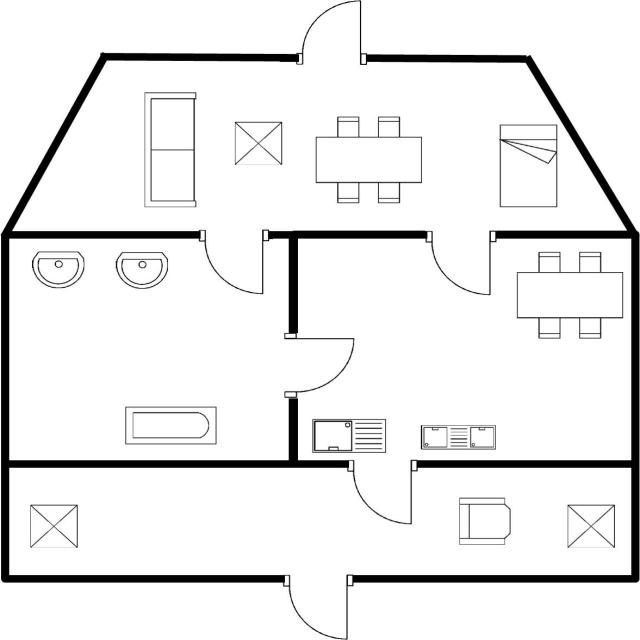armchair: (453, 492, 516, 552)
bed: (494, 118, 562, 214)
coffee_table: (227, 114, 289, 172), (562, 498, 622, 554), (23, 499, 83, 554)
dining_table: (510, 246, 628, 344), (309, 112, 427, 206)
large_sofa: (138, 86, 202, 215)
sink: (306, 414, 393, 458)
small_sink: (26, 246, 88, 294), (110, 246, 173, 292)
tub: (119, 401, 222, 450)
twin_sink: (414, 421, 502, 455)
